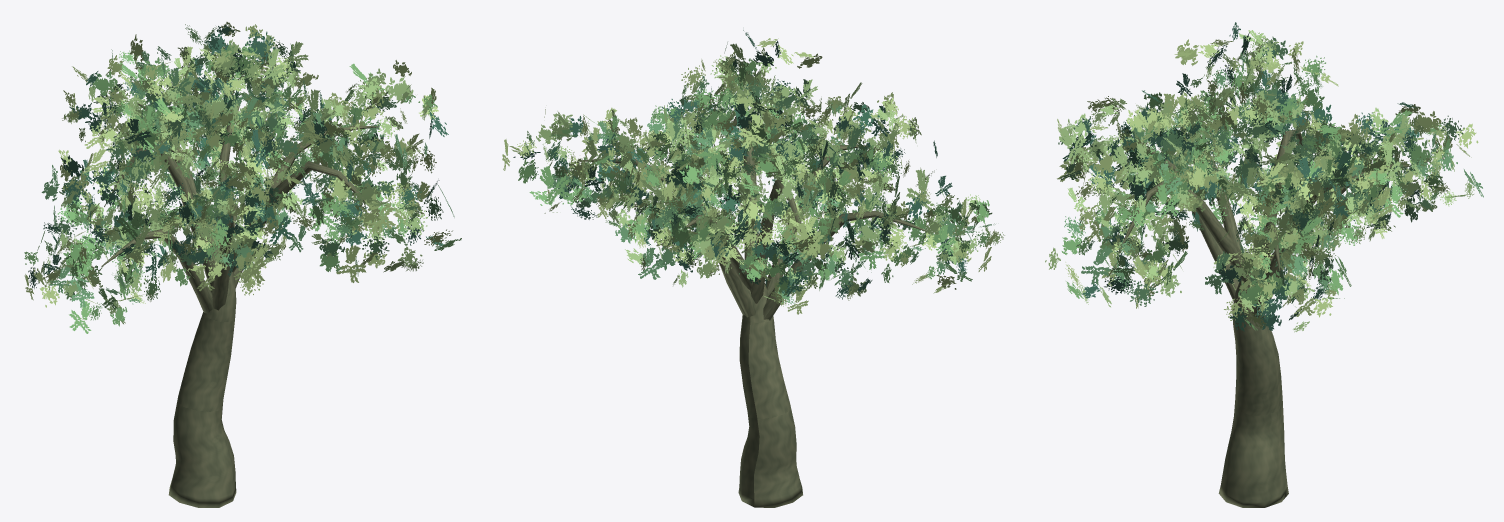
File: Tree_River_01_Sarandi.glb
The picture shows the model from 3 angles, left to right: view 1: azimuth 30°, elevation 25°; view 2: azimuth 150°, elevation 25°; view 3: azimuth 270°, elevation 25°; orthographic projection. The views are drawn at different scales.
Parts seen in each view (by area): view 1: Tree_River_01_Sarandi; view 2: Tree_River_01_Sarandi; view 3: Tree_River_01_Sarandi.
Boxes of the visible parts, <box> form: Tree_River_01_Sarandi: <box>24,22,461,507</box>; Tree_River_01_Sarandi: <box>502,30,1004,507</box>; Tree_River_01_Sarandi: <box>1045,22,1483,507</box>.
Bounding box in the file's own units: 7.53 × 7.27 × 6.18.
2 materials, 2 textured.
